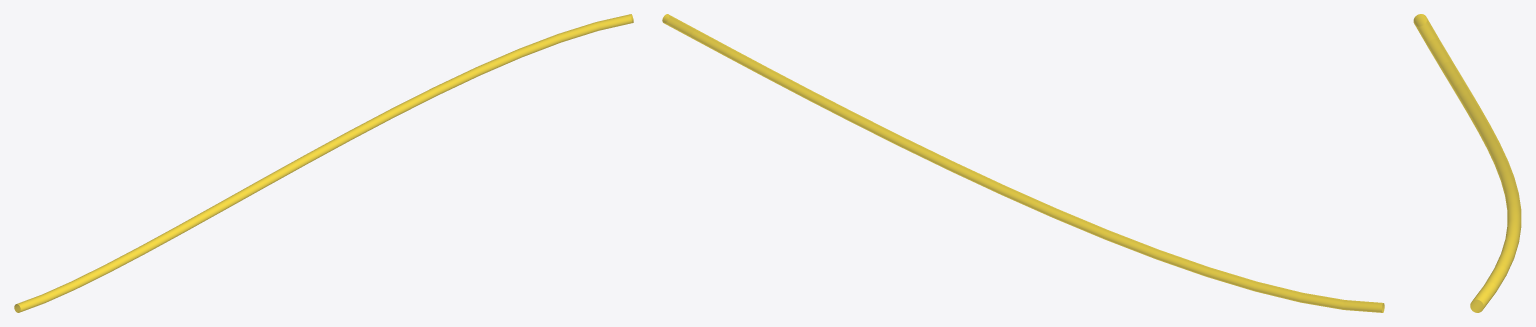
The model's file is Event_100608114_track_92.fbx.
The picture shows the model from 3 angles, left to right: view 1: azimuth 30°, elevation 25°; view 2: azimuth 150°, elevation 25°; view 3: azimuth 270°, elevation 25°; orthographic projection. The views are drawn at different scales.
Visible parts, largest first — view 1: Model; view 2: Model; view 3: Model.
Part boxes in pixels (box(x1,y1,x2,y2)): Model: box(14, 14, 633, 312); Model: box(662, 14, 1384, 312); Model: box(1413, 14, 1521, 312).
Bounding box in the file's own units: 3.19 × 0.6307 × 0.3069.
